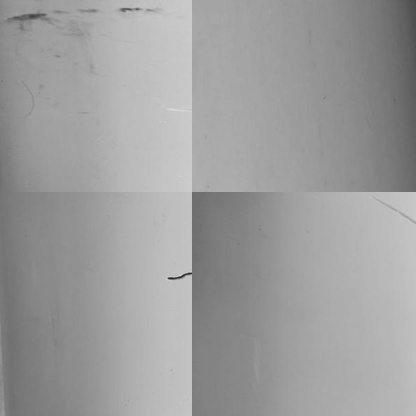fengxi: (167, 267, 191, 283)
sunshang: (373, 195, 416, 231)
